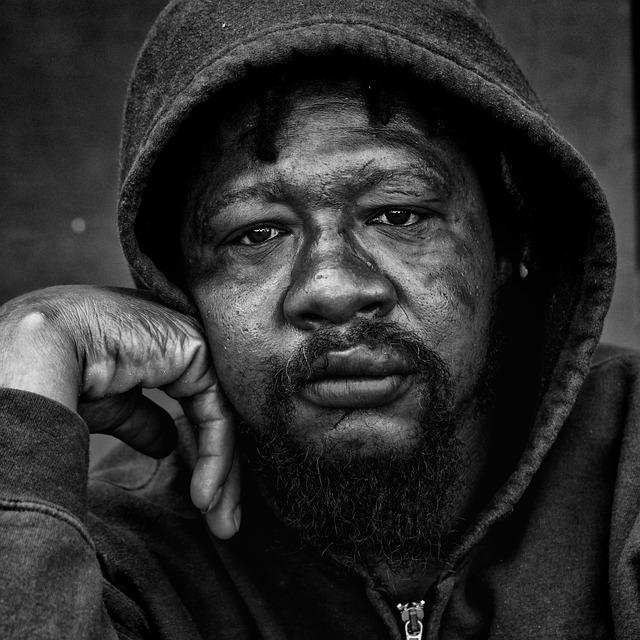Non_Gorille: (30, 7, 597, 612)
